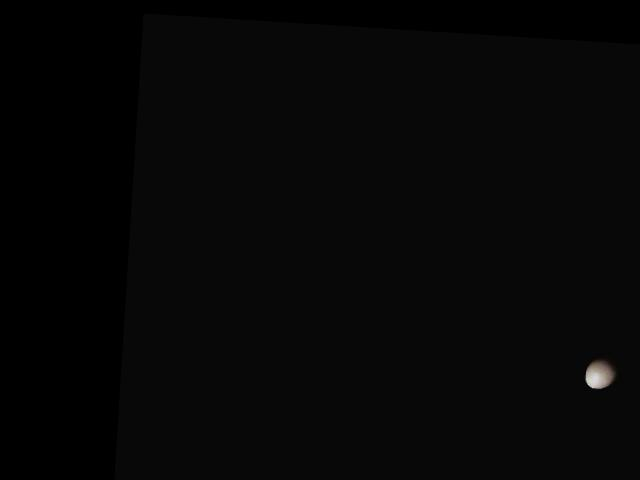egg: (585, 356, 619, 390)
